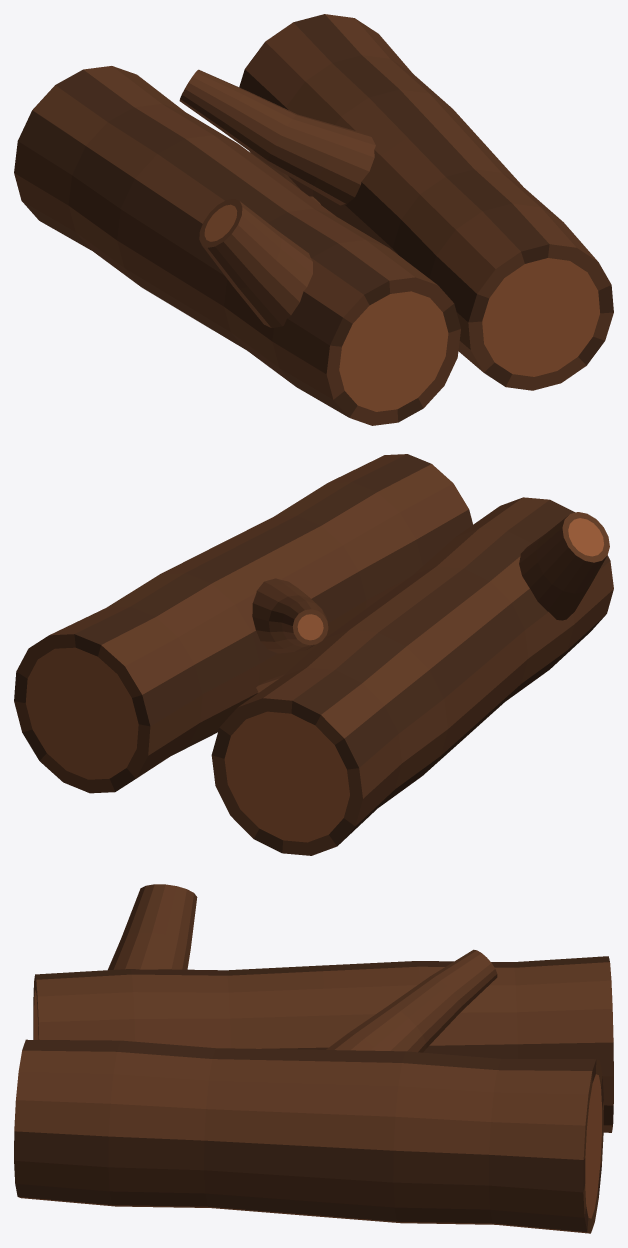
File: PlanksBig2.fbx
The picture shows the model from 3 angles, top to bottom: view 1: azimuth 30°, elevation 25°; view 2: azimuth 150°, elevation 25°; view 3: azimuth 270°, elevation 25°; orthographic projection. The views are drawn at different scales.
Visible parts, largest first — view 1: Cylinder.005; view 2: Cylinder.005; view 3: Cylinder.005.
Part boxes in pixels (x1,y1,x2,y2): Cylinder.005: [14, 14, 613, 425]; Cylinder.005: [14, 454, 613, 855]; Cylinder.005: [14, 884, 613, 1233].
Bounding box in the file's own units: 149 × 73.14 × 193.
